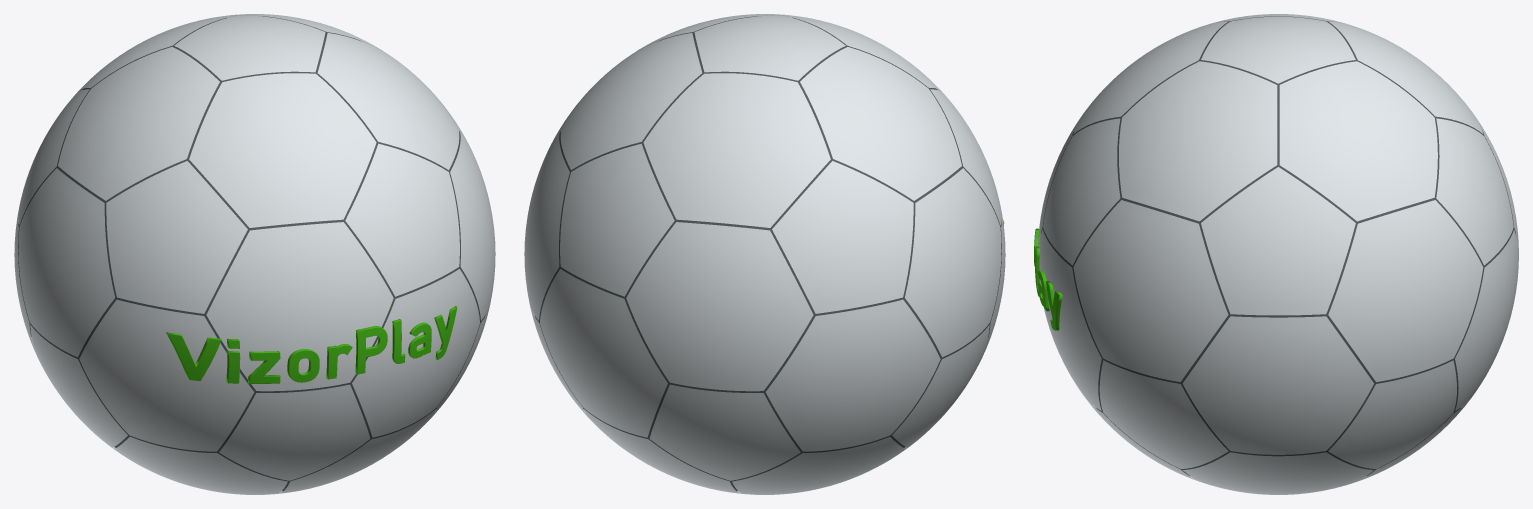
Rendered from vizorplay-football.glb.
The picture shows the model from 3 angles, left to right: view 1: azimuth 30°, elevation 25°; view 2: azimuth 150°, elevation 25°; view 3: azimuth 270°, elevation 25°; orthographic projection.
Parts seen in each view (by area): view 1: Chrome football panels, Emerald chrome VizorPlay, Recessed seam backing; view 2: Chrome football panels, Recessed seam backing; view 3: Chrome football panels, Recessed seam backing, Emerald chrome VizorPlay.
Part boxes in pixels (left/top/right/bottom): Chrome football panels: left=14, top=14, right=495, bottom=494; Emerald chrome VizorPlay: left=166, top=306, right=457, bottom=383; Recessed seam backing: left=18, top=16, right=484, bottom=491; Chrome football panels: left=524, top=14, right=1005, bottom=494; Recessed seam backing: left=535, top=16, right=1001, bottom=491; Chrome football panels: left=1038, top=14, right=1518, bottom=494; Recessed seam backing: left=1040, top=16, right=1515, bottom=475; Emerald chrome VizorPlay: left=1034, top=228, right=1062, bottom=330.
Size of the model in its own units: 2 by 2 by 2.02.
